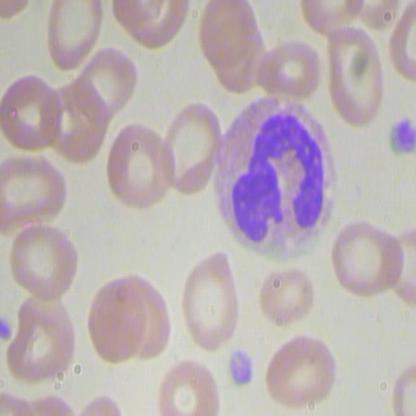Platelets: (383, 111, 415, 169), (227, 343, 256, 389)
RBC: (158, 98, 226, 203), (322, 25, 390, 130), (5, 289, 78, 383), (326, 210, 403, 298), (103, 118, 176, 210), (72, 42, 148, 127), (178, 250, 240, 354), (7, 218, 81, 305), (1, 146, 72, 236), (83, 266, 146, 365), (261, 328, 338, 407), (1, 70, 64, 154), (252, 37, 324, 102), (195, 1, 258, 74), (45, 1, 106, 74), (255, 264, 317, 331), (154, 357, 223, 415)
WBC: (211, 92, 339, 262)
